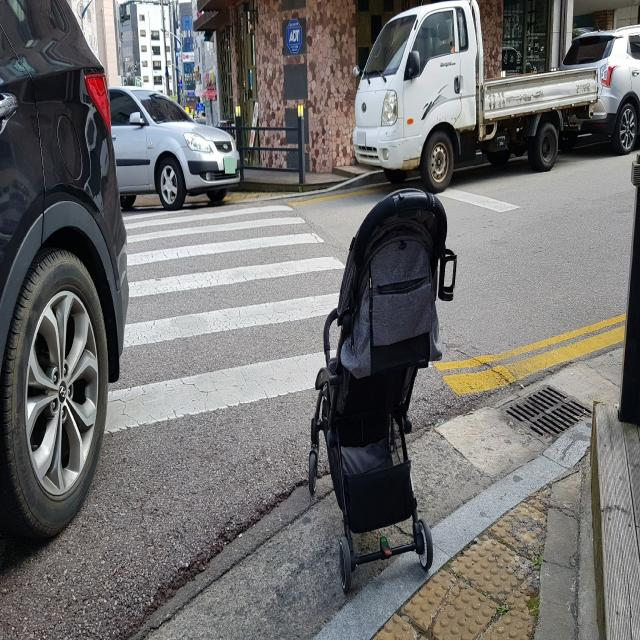횡단보도: (102, 202, 348, 439)
